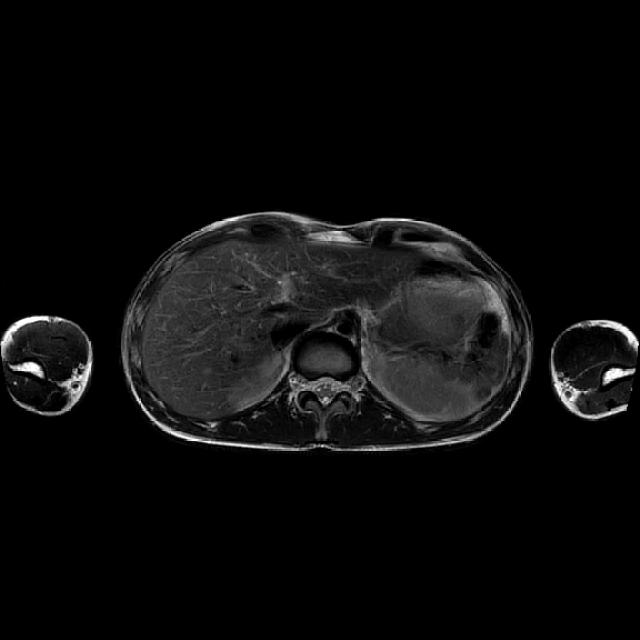sag: (231, 351, 285, 402)
sol: (364, 351, 449, 413)
